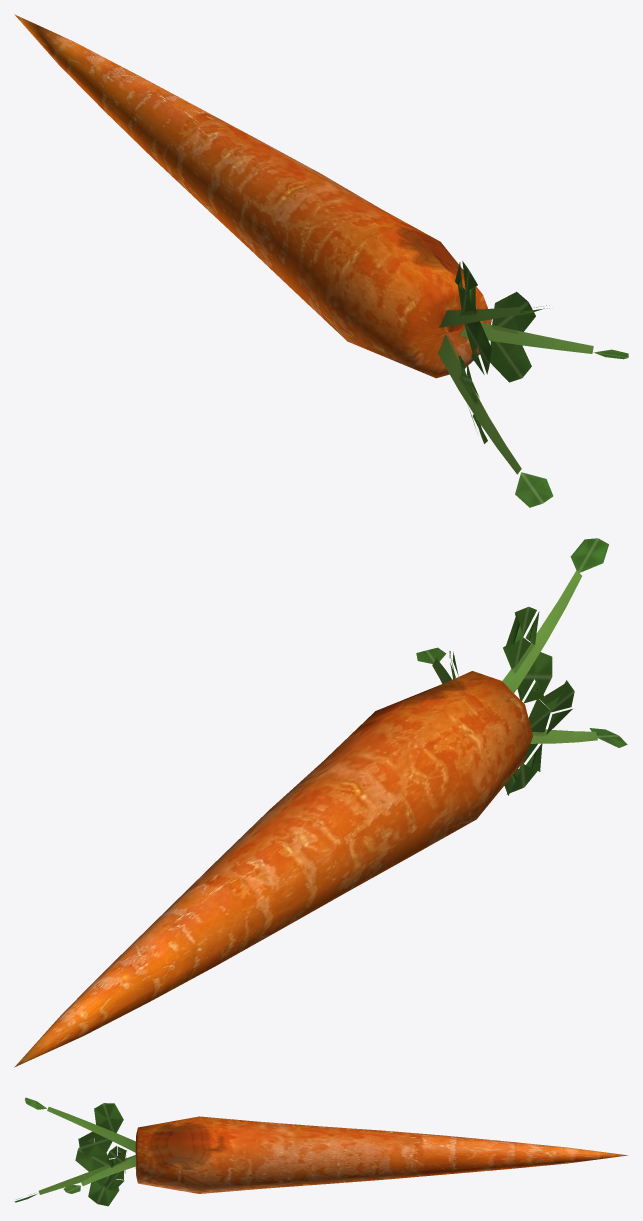
Rendered from carrot_bolt.glb.
The picture shows the model from 3 angles, top to bottom: view 1: azimuth 30°, elevation 25°; view 2: azimuth 150°, elevation 25°; view 3: azimuth 270°, elevation 25°; orthographic projection. The views are drawn at different scales.
Parts seen in each view (by area): view 1: carrot_bolt; view 2: carrot_bolt; view 3: carrot_bolt.
Part boxes in pixels (x1=…): carrot_bolt: x1=14, y1=14, x2=628, y2=507; carrot_bolt: x1=14, y1=538, x2=627, y2=1067; carrot_bolt: x1=14, y1=1097, x2=627, y2=1206.
Size of the model in its own units: 0.0322 by 0.0324 by 0.1666.
Materials: 1 (1 with a texture image).
